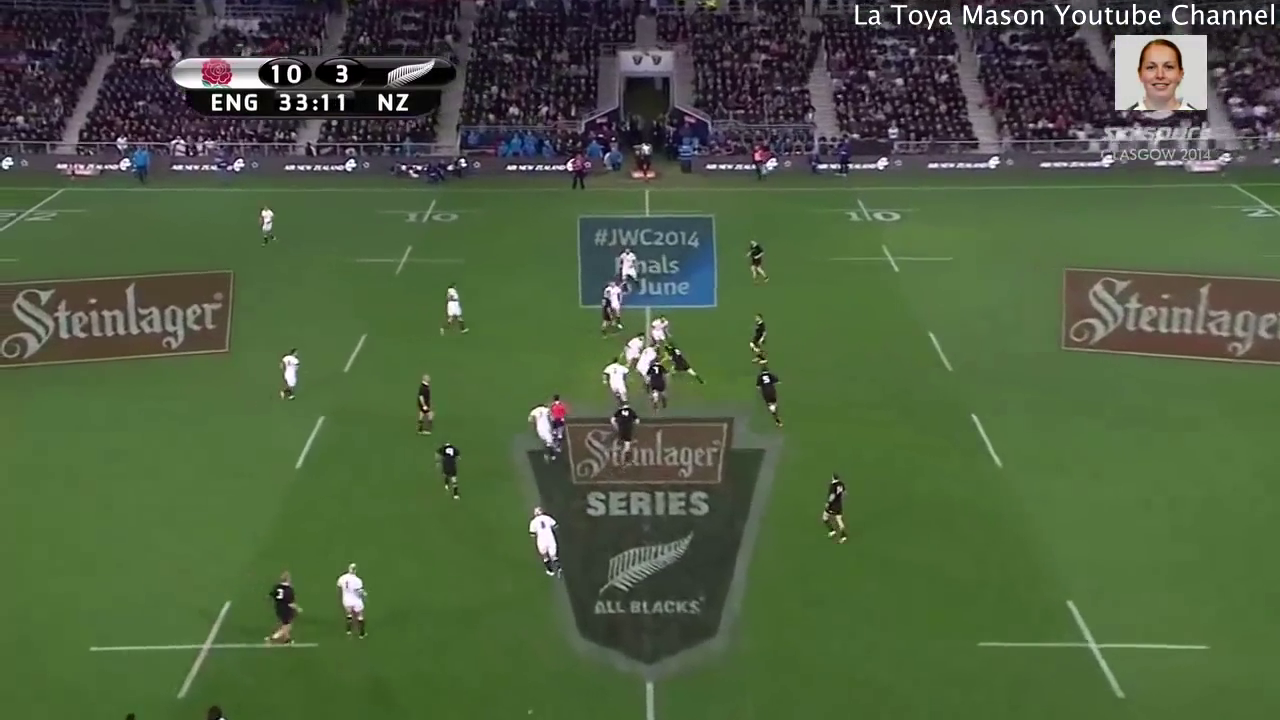10_metre: (961, 591, 1222, 710), (84, 594, 338, 712), (823, 242, 973, 281), (350, 239, 470, 278), (373, 193, 485, 230), (810, 195, 924, 227)
player: (328, 559, 375, 652), (259, 565, 305, 655), (521, 502, 570, 586), (812, 464, 857, 548), (748, 364, 789, 439), (525, 395, 564, 466), (427, 436, 468, 503), (437, 275, 476, 342), (734, 233, 780, 288), (407, 371, 440, 440), (740, 308, 776, 370), (600, 352, 637, 410), (272, 339, 304, 406), (663, 340, 707, 388), (542, 388, 575, 450), (607, 399, 640, 459), (252, 194, 282, 256), (612, 247, 648, 298), (642, 354, 674, 411), (617, 328, 653, 371), (646, 309, 676, 354), (635, 339, 661, 383), (603, 277, 628, 322), (593, 291, 618, 336)
